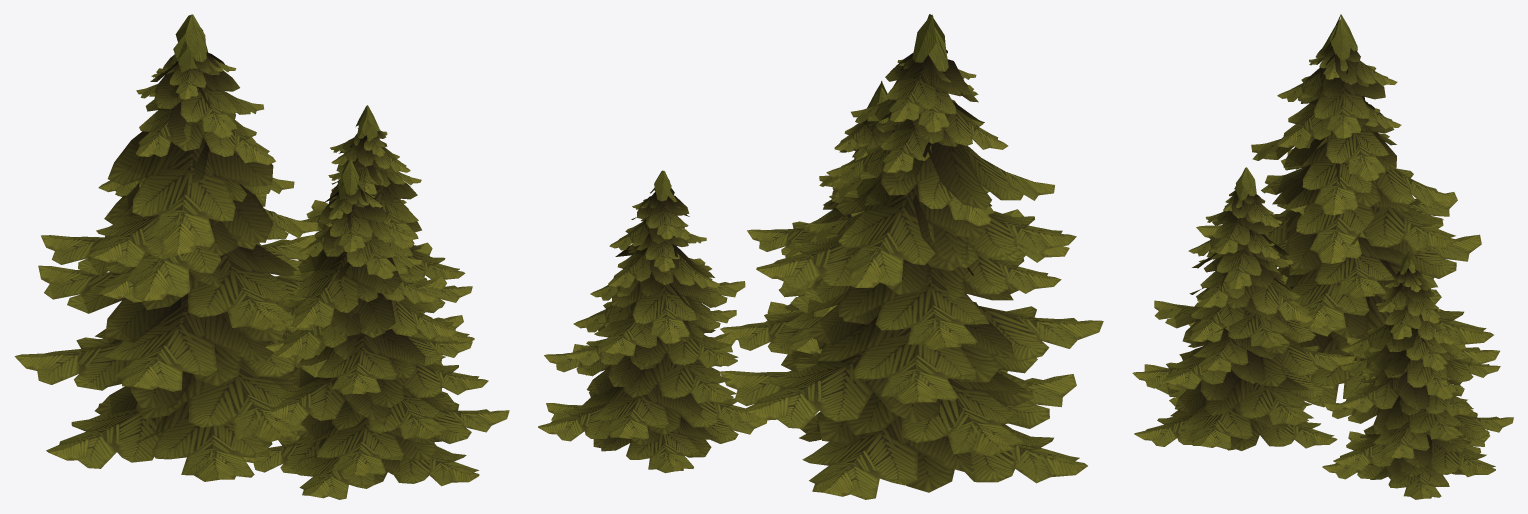
The model's file is pine_tree_triple_ver1.glb.
3 renders of one model, left to right at view 1: azimuth 30°, elevation 25°; view 2: azimuth 150°, elevation 25°; view 3: azimuth 270°, elevation 25°, orthographic. The views are drawn at different scales.
Visible parts, largest first — view 1: Leaves/001.002; view 2: Leaves/001.002; view 3: Leaves/001.002.
Boxes of the visible parts, x1,y1,x2,y2 form: Leaves/001.002: (14,14,509,499); Leaves/001.002: (538,14,1103,499); Leaves/001.002: (1132,14,1513,499).
Size of the model in its own units: 3.11 by 2.76 by 2.6.
Materials: 2 (2 with a texture image).
